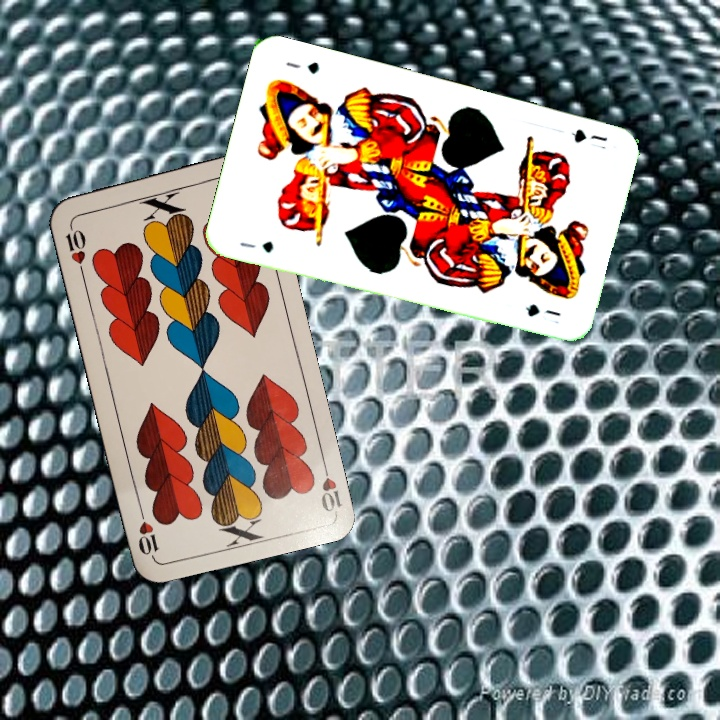GU: (567, 125, 610, 152), (236, 237, 276, 256)
H10: (61, 219, 89, 277), (317, 456, 344, 515)
